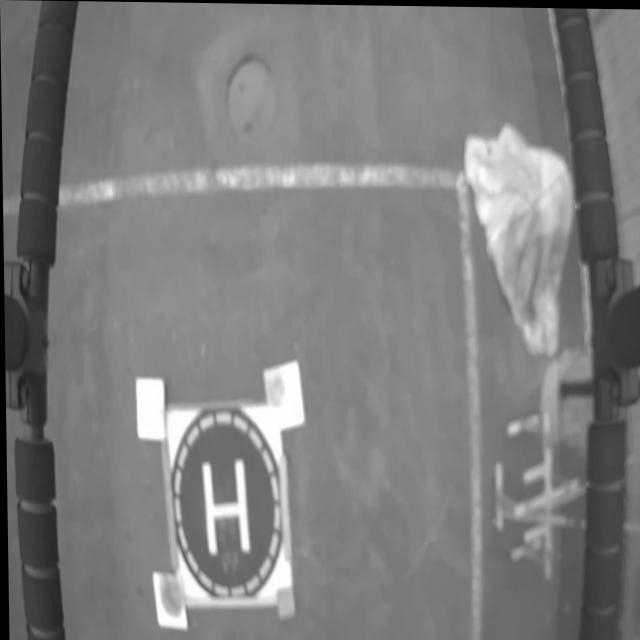Helipad: (199, 457, 249, 556)
